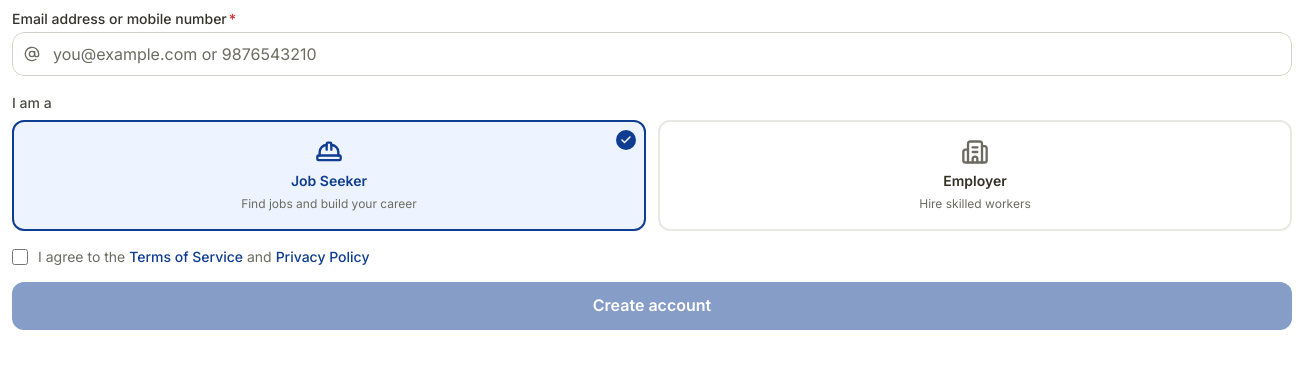
Scenario: SignupForm — phone signup › keeps the user on the form when the number is already registered
Type "9555555555" into the field labelled "Email address or mobile number*" at coordinates (652, 54), box x1=12 y1=32 x2=1292 y2=76
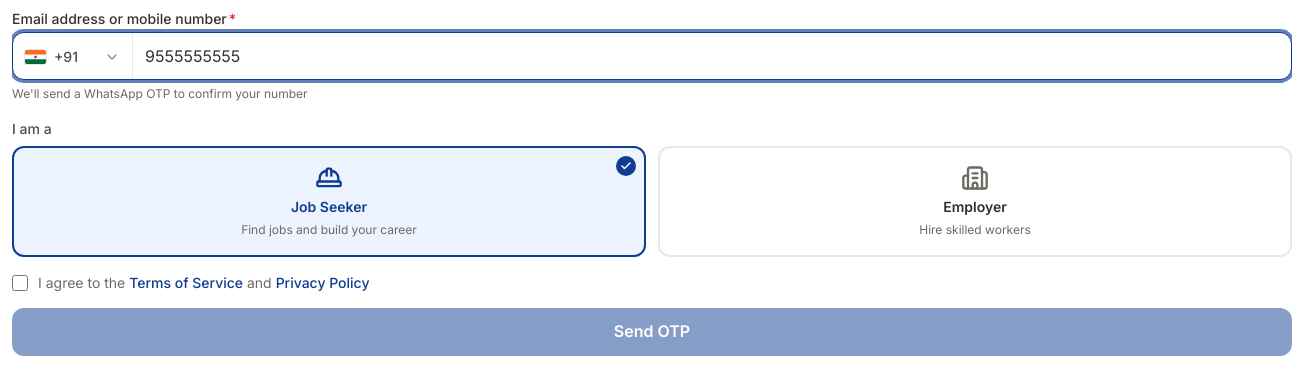
Click the checkbox at coordinates (20, 282), box x1=12 y1=274 x2=28 y2=290
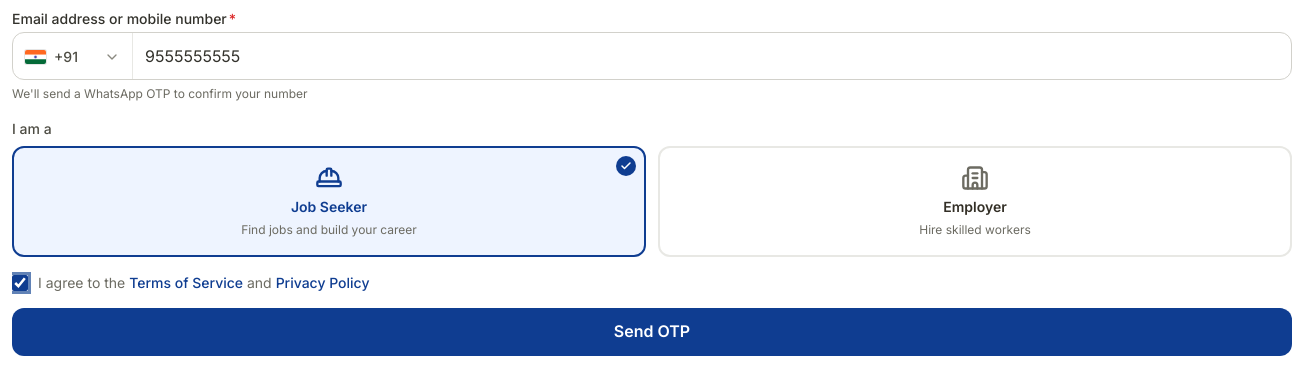
Click the button "Send OTP" at coordinates (652, 332), box x1=12 y1=308 x2=1292 y2=356
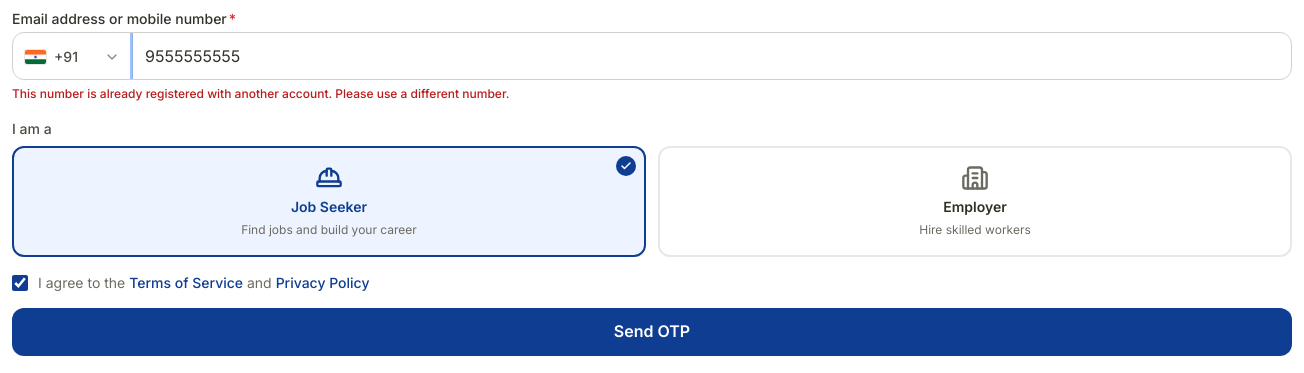
Check: the button "Send OTP" is shown, box x1=12 y1=308 x2=1292 y2=356
Check: the message shows "already registered", box x1=12 y1=86 x2=510 y2=101
